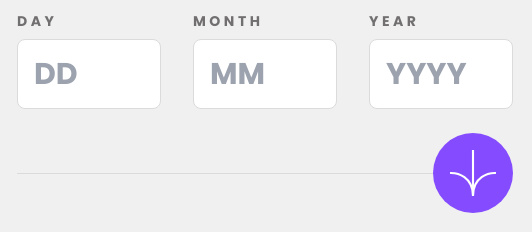
BirthForm › should show an error message when month input is empty on submit
The width and height of the screenshot is (532, 232).
Type "3" into the field with placeholder "DD". click: (89, 74)
box: [17,39,161,109]
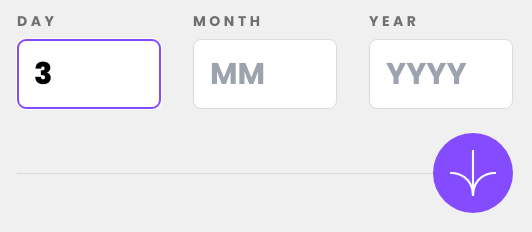
Click the button. click: (473, 173)
box: [433,133,513,213]
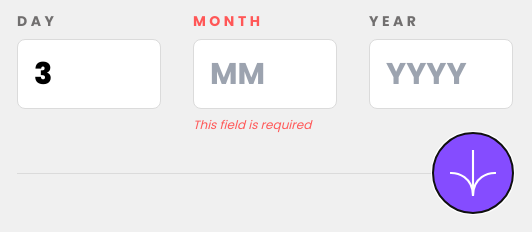
Now the text "Must be a valid month" reads "This field is required", box [193,116,311,133]
